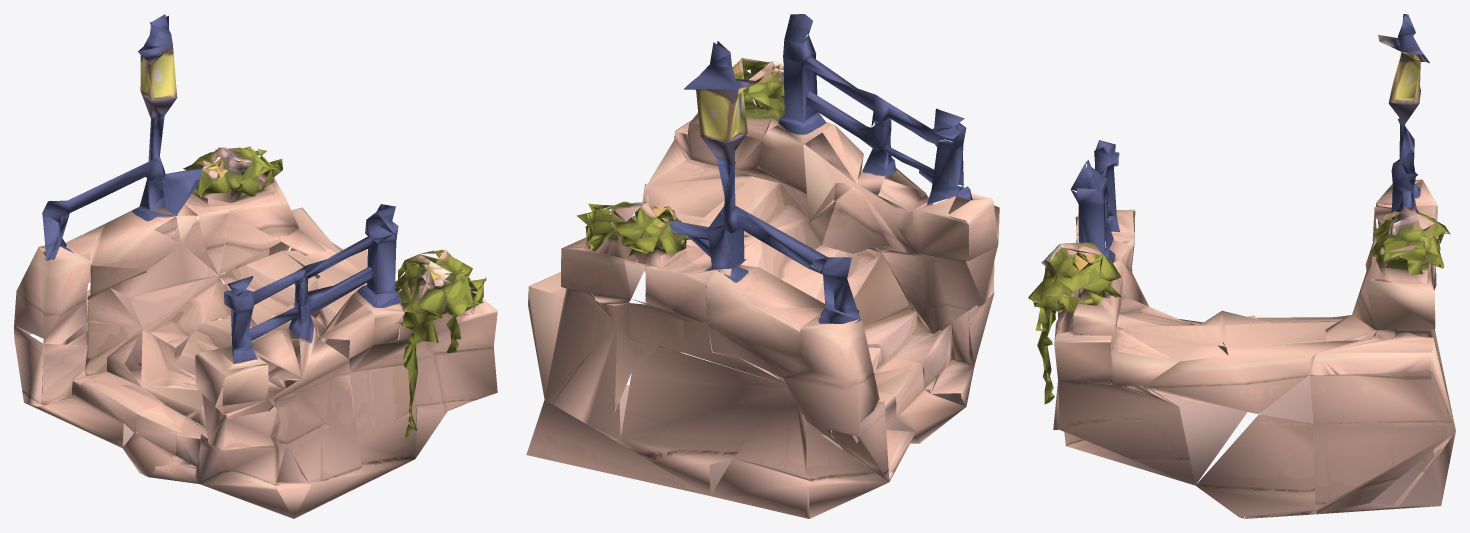
The model's file is M-13_03_stairs.glb.
3 renders of one model, left to right at view 1: azimuth 30°, elevation 25°; view 2: azimuth 150°, elevation 25°; view 3: azimuth 270°, elevation 25°, orthographic. The views are drawn at different scales.
Parts seen in each view (by area): view 1: canal_stairs; view 2: canal_stairs; view 3: canal_stairs.
Part boxes in pixels (x1=…): canal_stairs: x1=14, y1=14, x2=497, y2=518; canal_stairs: x1=526, y1=14, x2=999, y2=518; canal_stairs: x1=1028, y1=14, x2=1455, y2=518.
Bounding box in the file's own units: 5.67 × 6.64 × 6.12.
1 material, 1 textured.
